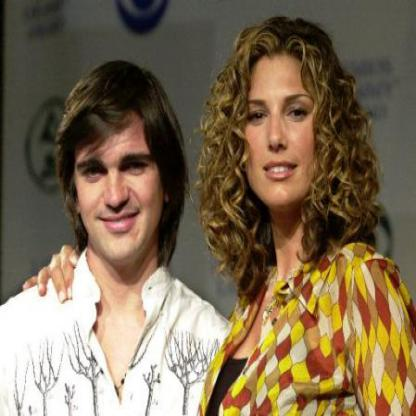face: (73, 63, 167, 265), (235, 17, 329, 208)
